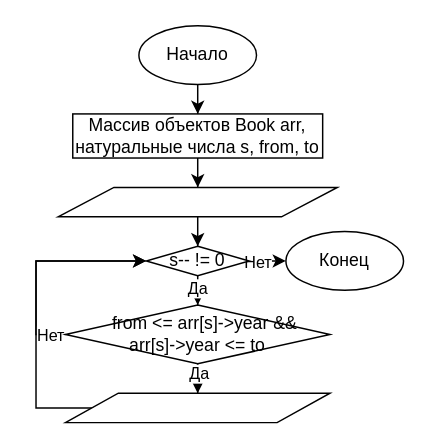
The diagram is 429 pixels wide and 448 high, and some of its shapes have lost their labels. The centre of each missing label's shape, as x and y in pixels:
Вывод PrintBook(arr[s]): the point at 197,407
Получение arr, s, from, to: the point at 197,201
